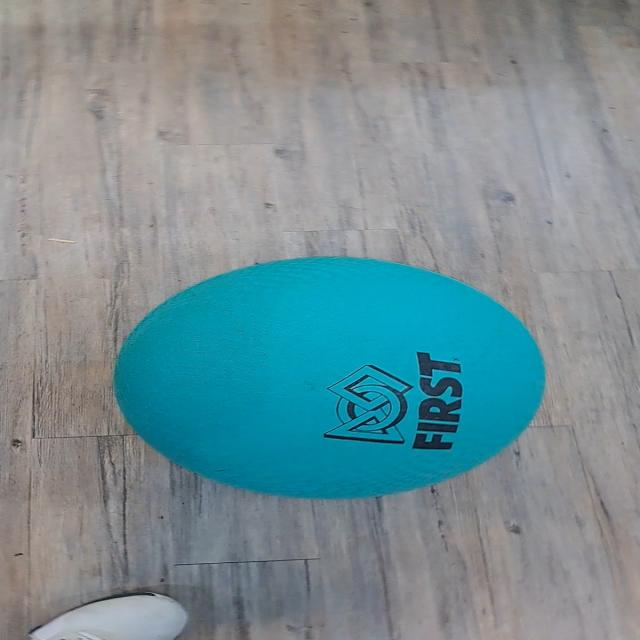ALGAE: (111, 254, 548, 500)
